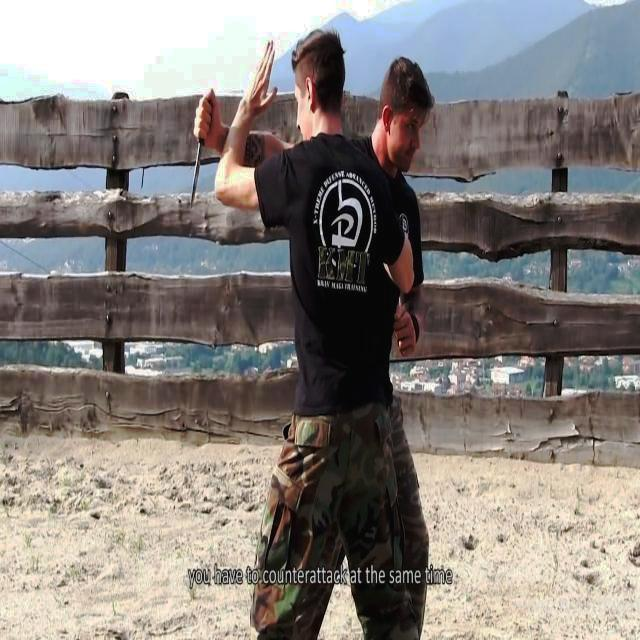Knife: (178, 92, 210, 208)
